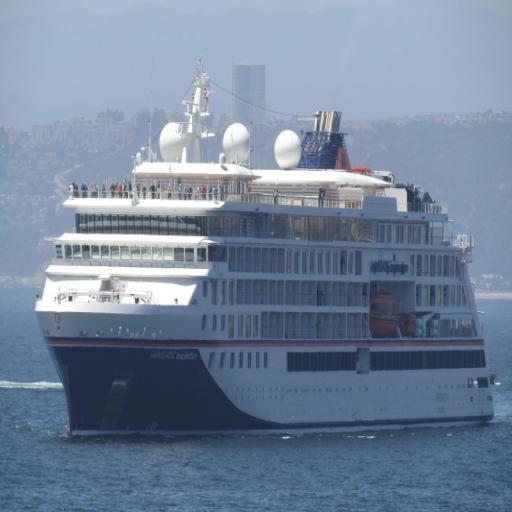cruises: (32, 71, 499, 446)
